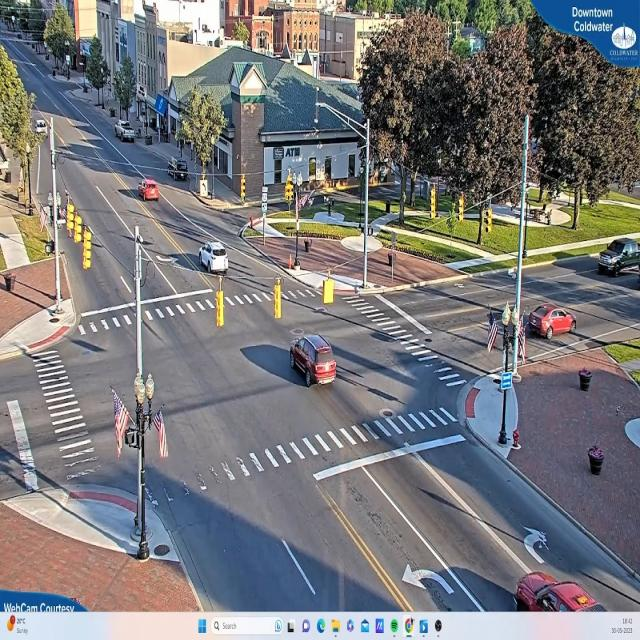car: (286, 330, 344, 394), (516, 572, 600, 614), (598, 237, 639, 278), (527, 305, 575, 339), (197, 236, 229, 275), (138, 179, 163, 205), (117, 122, 137, 144), (35, 119, 48, 132)
